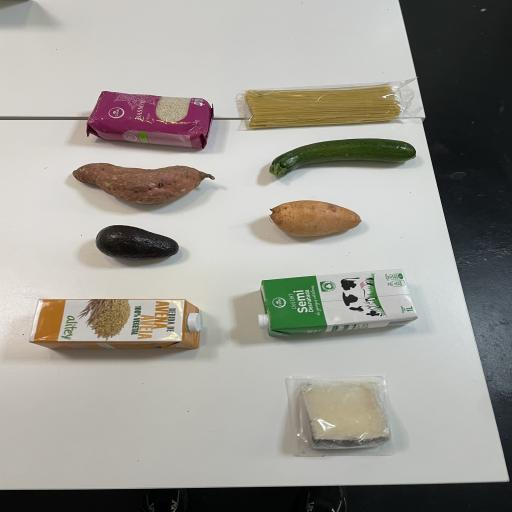avocado: (94, 218, 183, 268)
courgette: (264, 136, 425, 182)
cured_goat_cheese: (289, 371, 398, 452)
milk: (252, 267, 428, 336)
oat_milk: (31, 290, 210, 354)
rice: (78, 81, 222, 152)
spaghetti: (233, 72, 420, 130)
sweet_potato: (64, 157, 222, 213), (258, 196, 370, 244)
